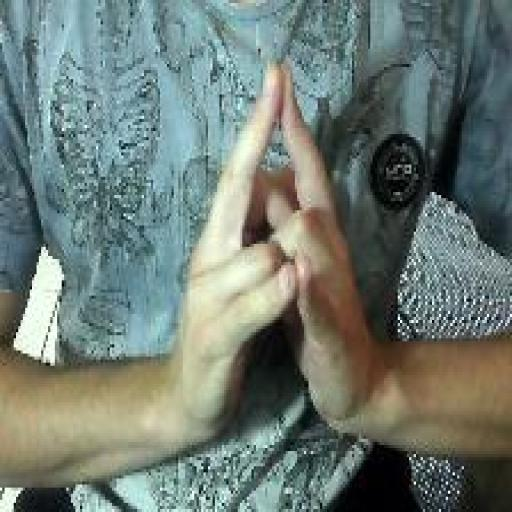Tori -bird-: (173, 58, 376, 442)
